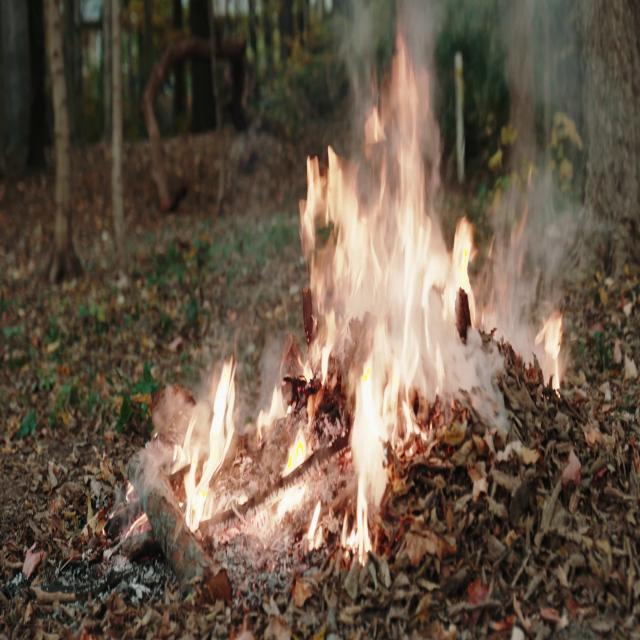Fire: (260, 0, 582, 543), (177, 352, 251, 532)
